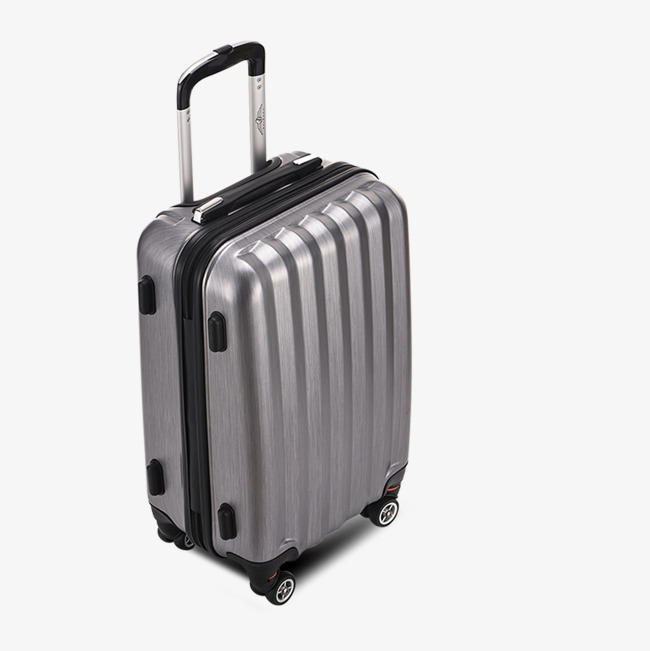box: (136, 150, 412, 572)
handle: (191, 154, 325, 227)
wheel: (250, 570, 296, 606), (359, 496, 400, 527), (156, 527, 195, 551)
